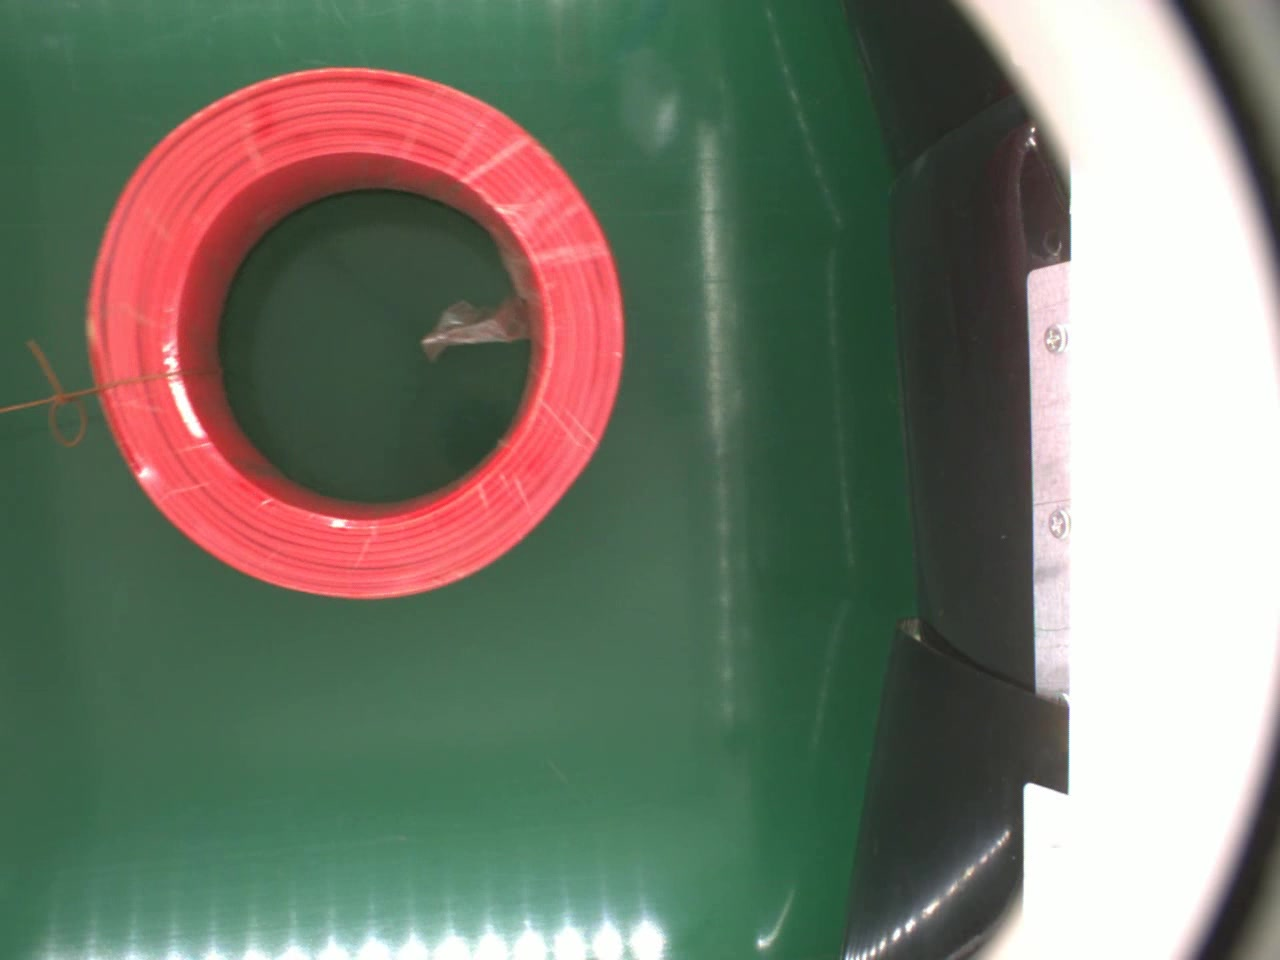red: (82, 66, 629, 603)
